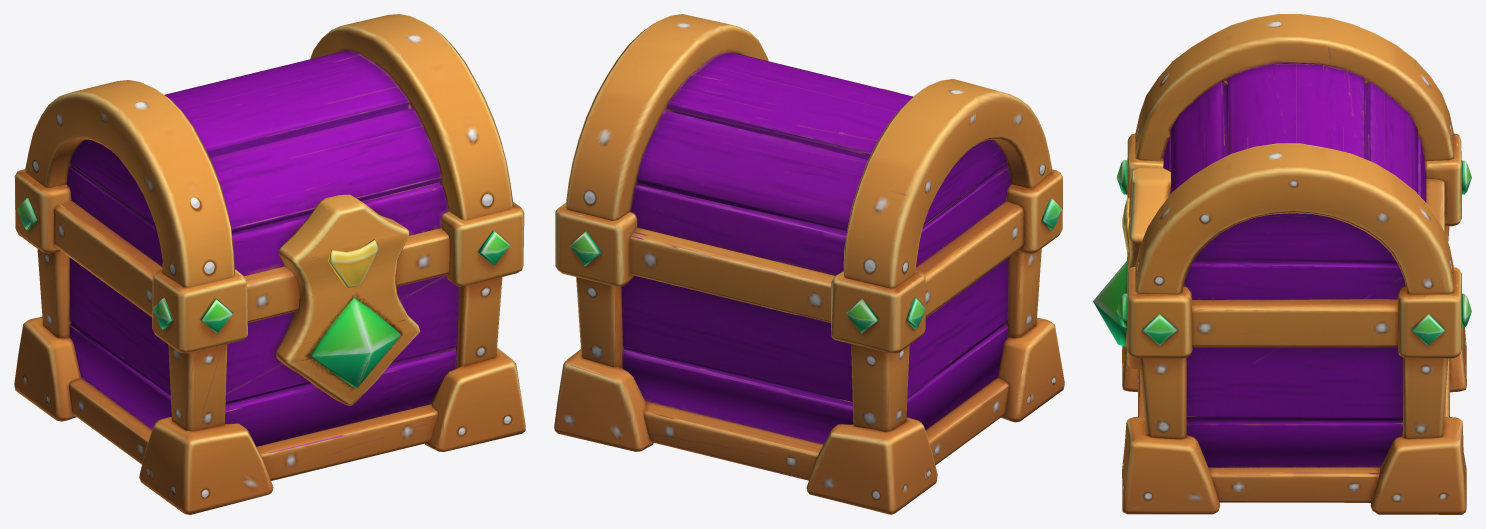
The model's file is treasure-chest.glb.
3 renders of one model, left to right at view 1: azimuth 30°, elevation 25°; view 2: azimuth 150°, elevation 25°; view 3: azimuth 270°, elevation 25°, orthographic.
Bounding box in the file's own units: 0.9497 × 0.8799 × 0.8716.
Materials: 1 (1 with a texture image).
